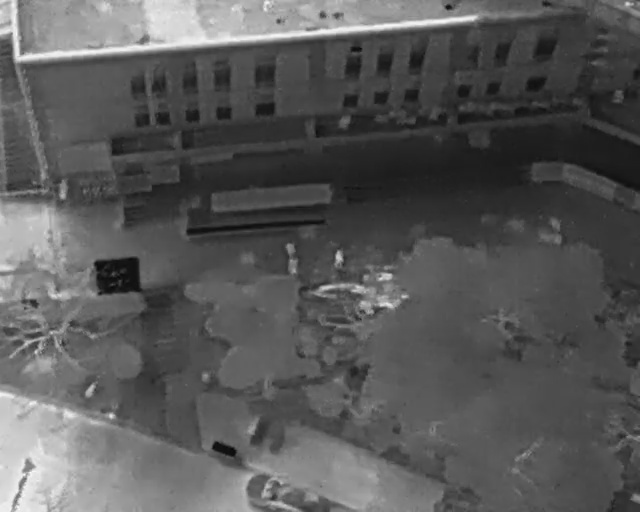Person: (289, 253, 300, 276), (335, 246, 344, 271), (286, 241, 295, 258)
